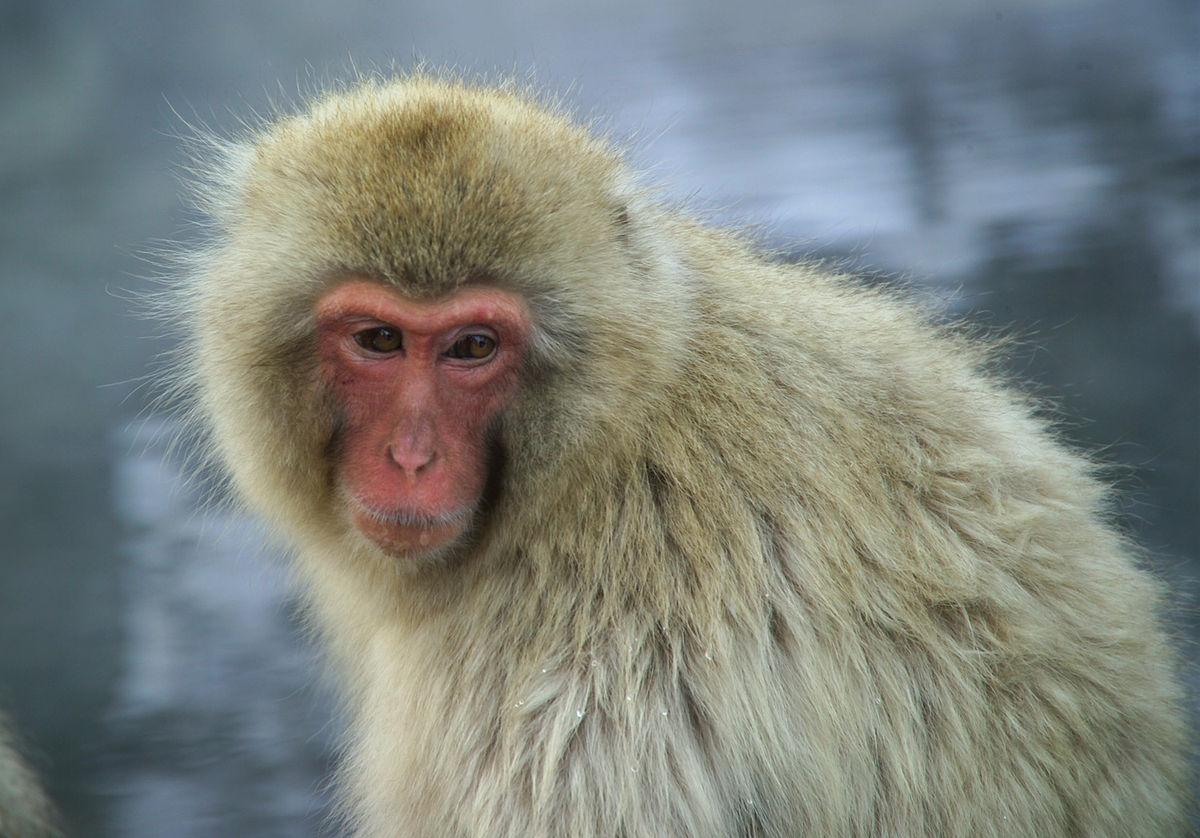Macaca fuscata: (163, 67, 1200, 838)
